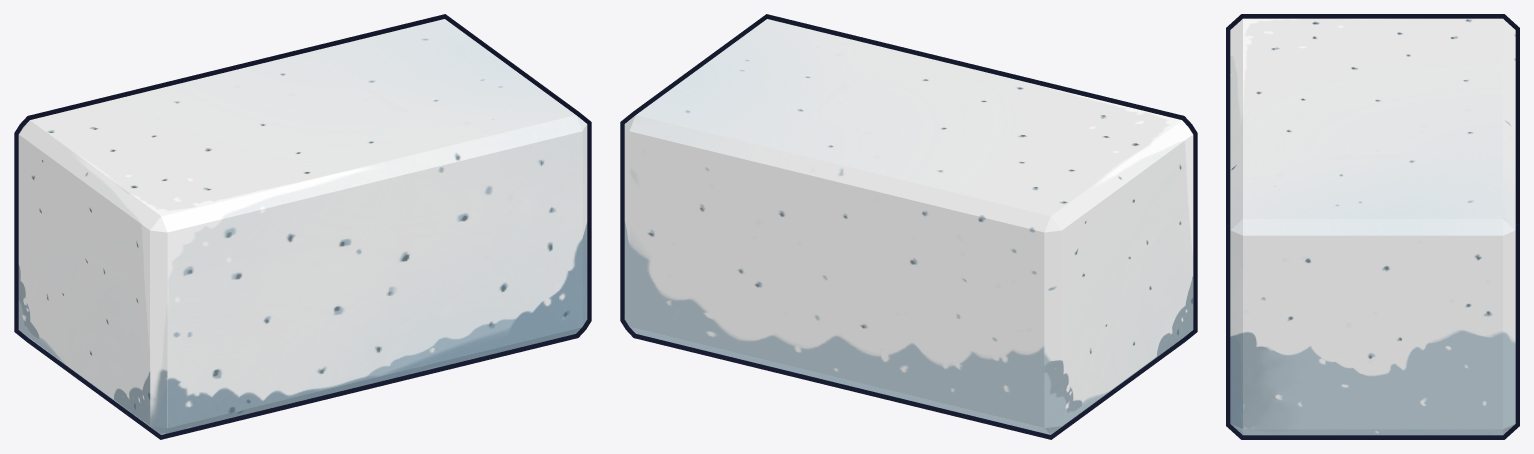
The model's file is sucre.glb.
3 renders of one model, left to right at view 1: azimuth 30°, elevation 25°; view 2: azimuth 150°, elevation 25°; view 3: azimuth 270°, elevation 25°, orthographic.
Visible parts, largest first — view 1: sucre, sucre border; view 2: sucre, sucre border; view 3: sucre, sucre border.
Part boxes in pixels (bbox=[...]): sucre: bbox=[18, 19, 587, 434]; sucre border: bbox=[14, 14, 591, 439]; sucre: bbox=[624, 19, 1193, 434]; sucre border: bbox=[620, 14, 1197, 439]; sucre: bbox=[1230, 18, 1515, 435]; sucre border: bbox=[1226, 14, 1519, 439].
Bounding box in the file's own units: 0.7746 × 0.3774 × 0.4479.
2 materials, 1 textured.
